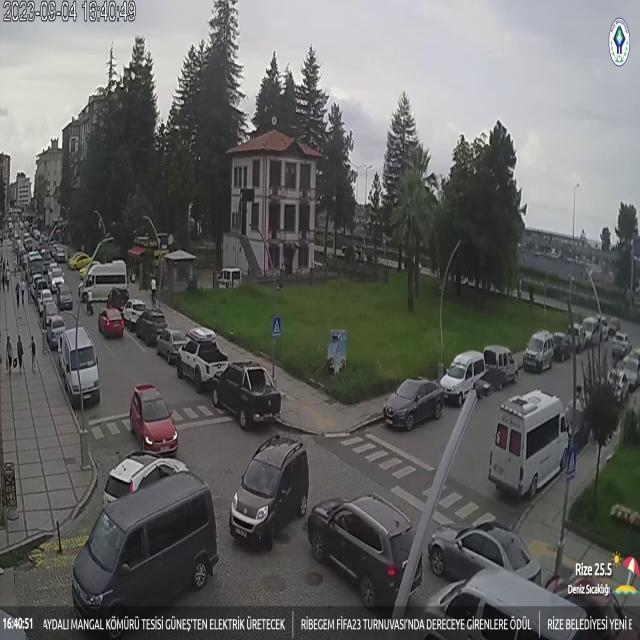Car: (310, 492, 424, 609), (230, 436, 311, 554), (431, 520, 541, 598), (549, 568, 636, 640), (99, 454, 191, 502), (126, 384, 180, 454), (382, 376, 445, 432), (483, 345, 519, 388), (522, 328, 554, 374), (136, 308, 166, 347), (154, 330, 187, 364), (97, 308, 124, 337), (44, 316, 68, 347), (125, 298, 145, 329), (610, 333, 633, 357), (553, 331, 571, 361), (56, 284, 74, 309), (67, 253, 92, 271), (48, 268, 66, 290), (36, 289, 54, 311)
Truck: (210, 360, 284, 428), (177, 328, 232, 392)
Van: (71, 471, 220, 624), (421, 566, 591, 640), (490, 390, 570, 501), (60, 327, 102, 409), (441, 350, 486, 405), (78, 260, 129, 303), (216, 266, 244, 287)
